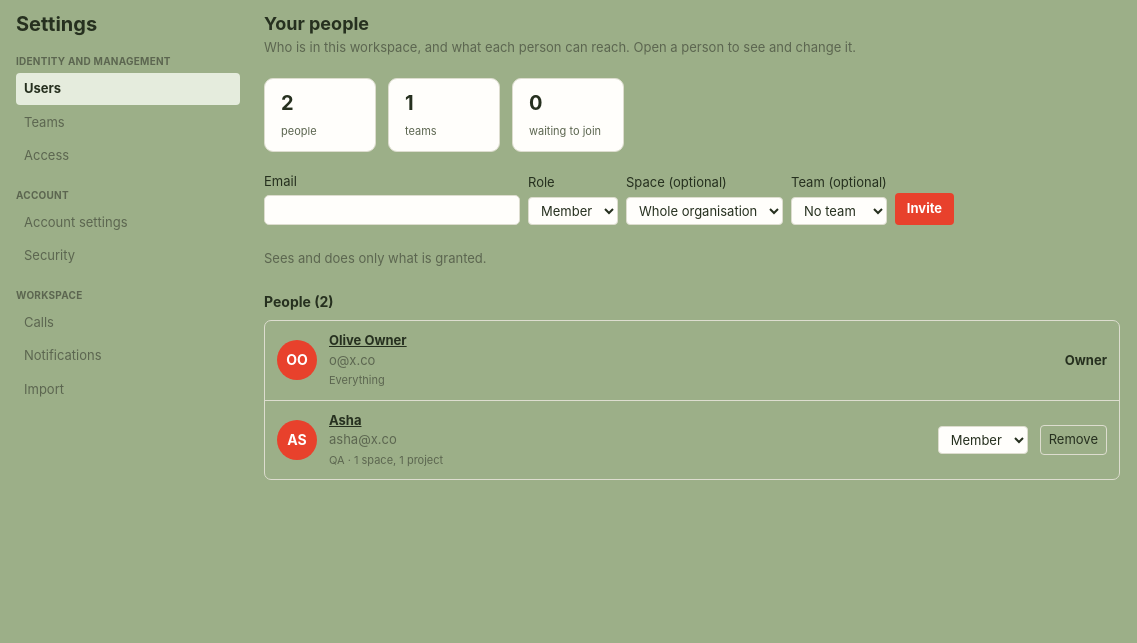
Test: a person's page › opens from the list and shows the role, the teams and what they can reach, with the team it comes through
What coordinates should you click on to do the following:
click the button "Asha"
I would click on:
 (345, 420)
Its box is [329,410,362,430].
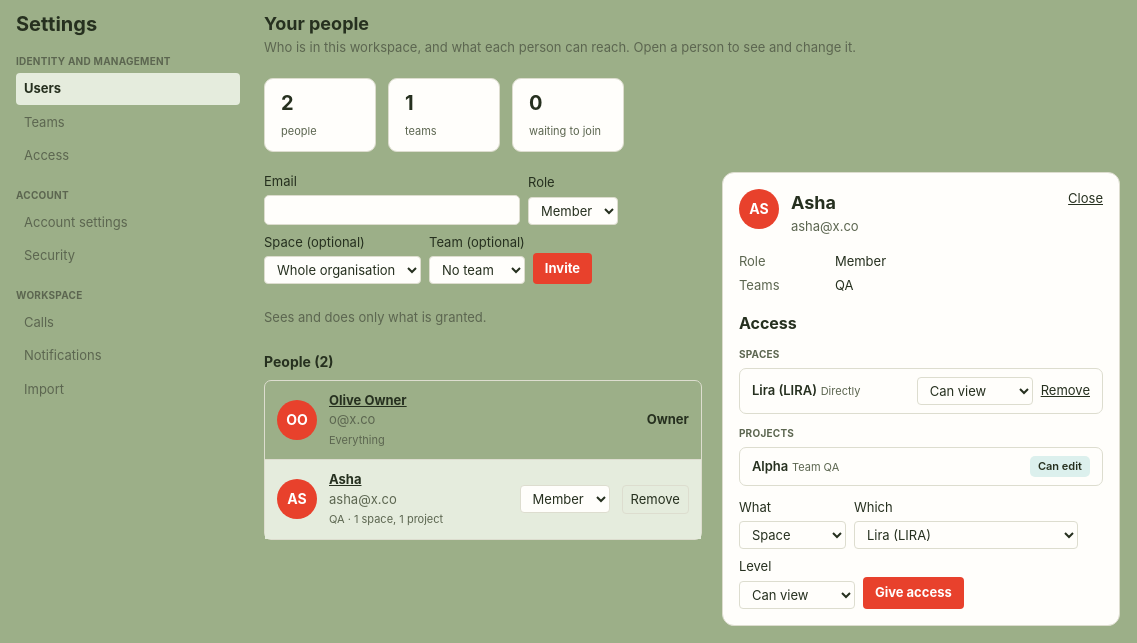
Now the heading "Asha" is shown, box [791,192,836,212]
Now the element showing "Role Member Teams QA" is shown, box [739,253,886,292]
Now the list item "Lira (LIRA) Directly Remove" is shown, box [739,368,1103,414]
